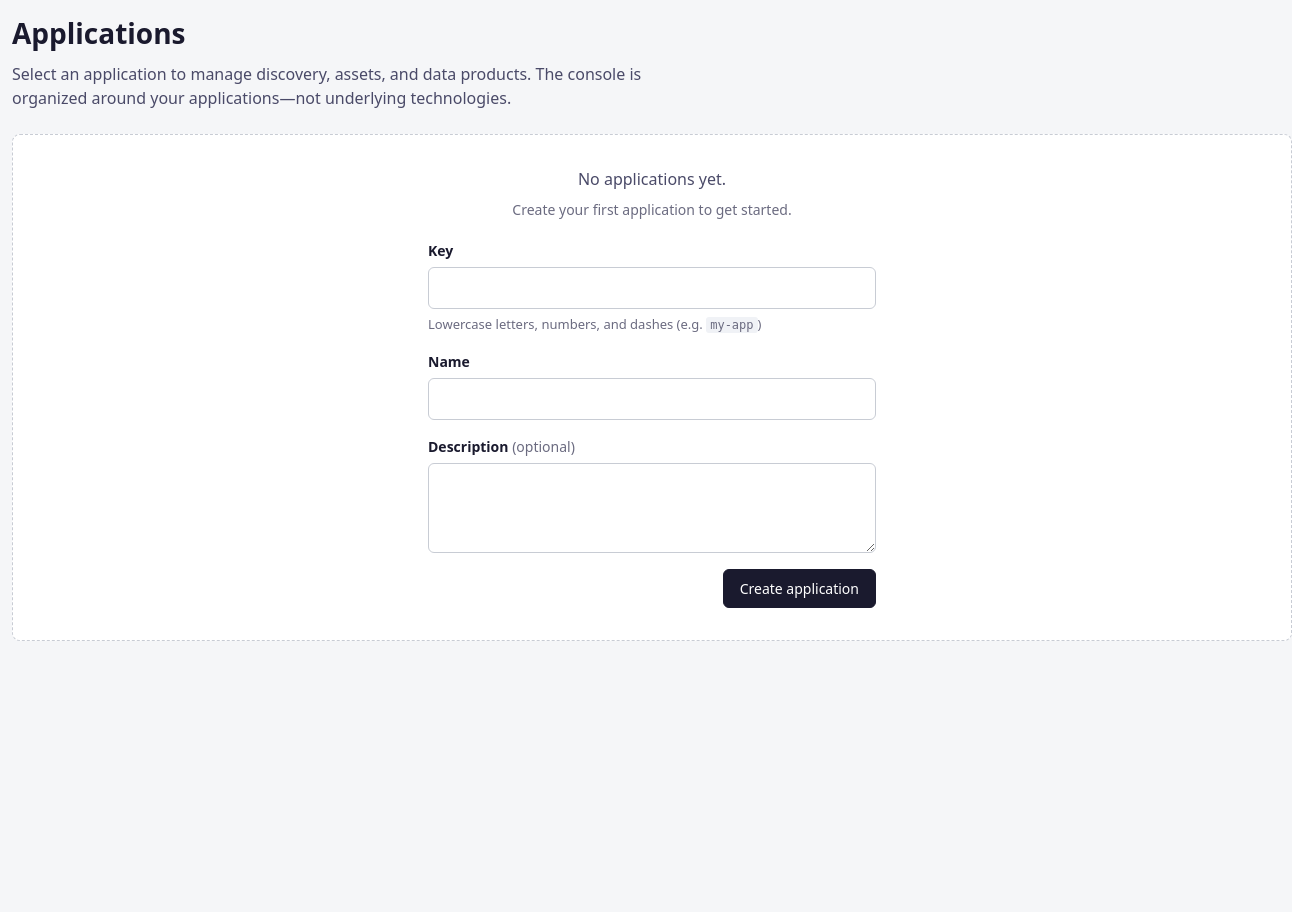
Test case: ApplicationsPage › displays API error when create fails
Expected: the text "No applications yet." is shown, [578,168,726,190]
In the field labelled "Key": point(652, 288) [428,267,876,309], type "demo"
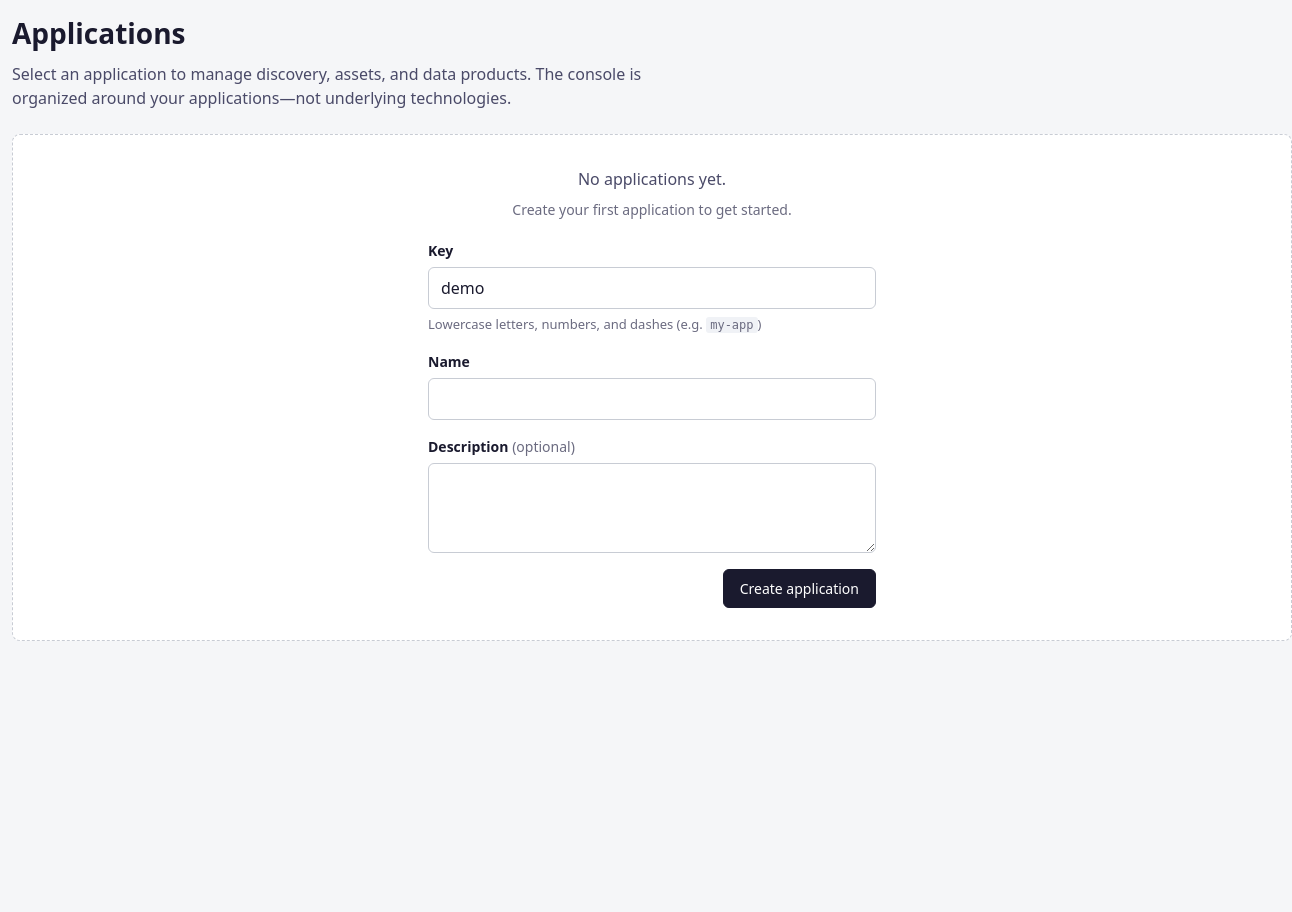
In the field labelled "Name": point(652, 398) [428,378,876,420], type "Duplicate"
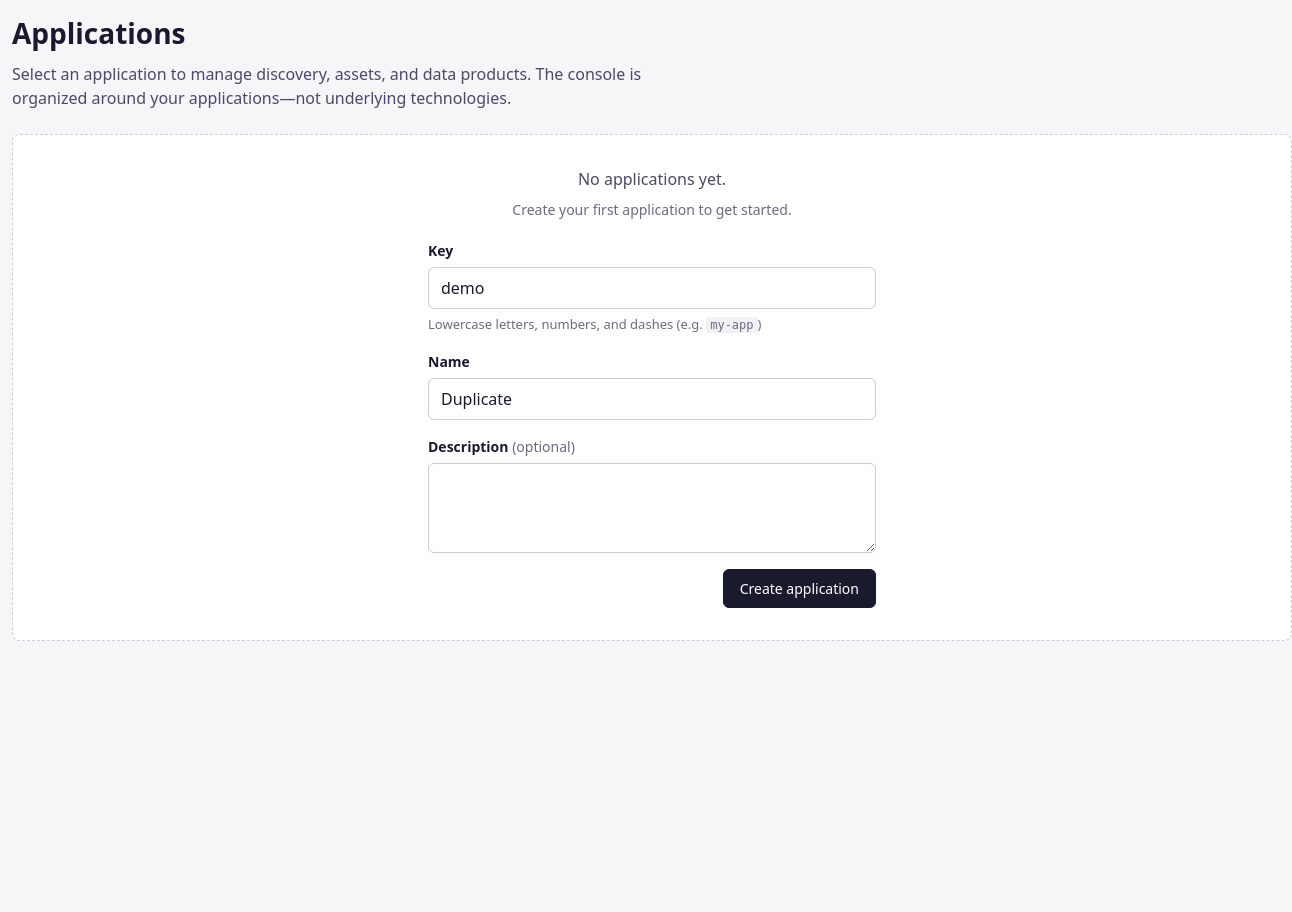
Click the button "Create application": point(799, 588) [723,568,876,608]
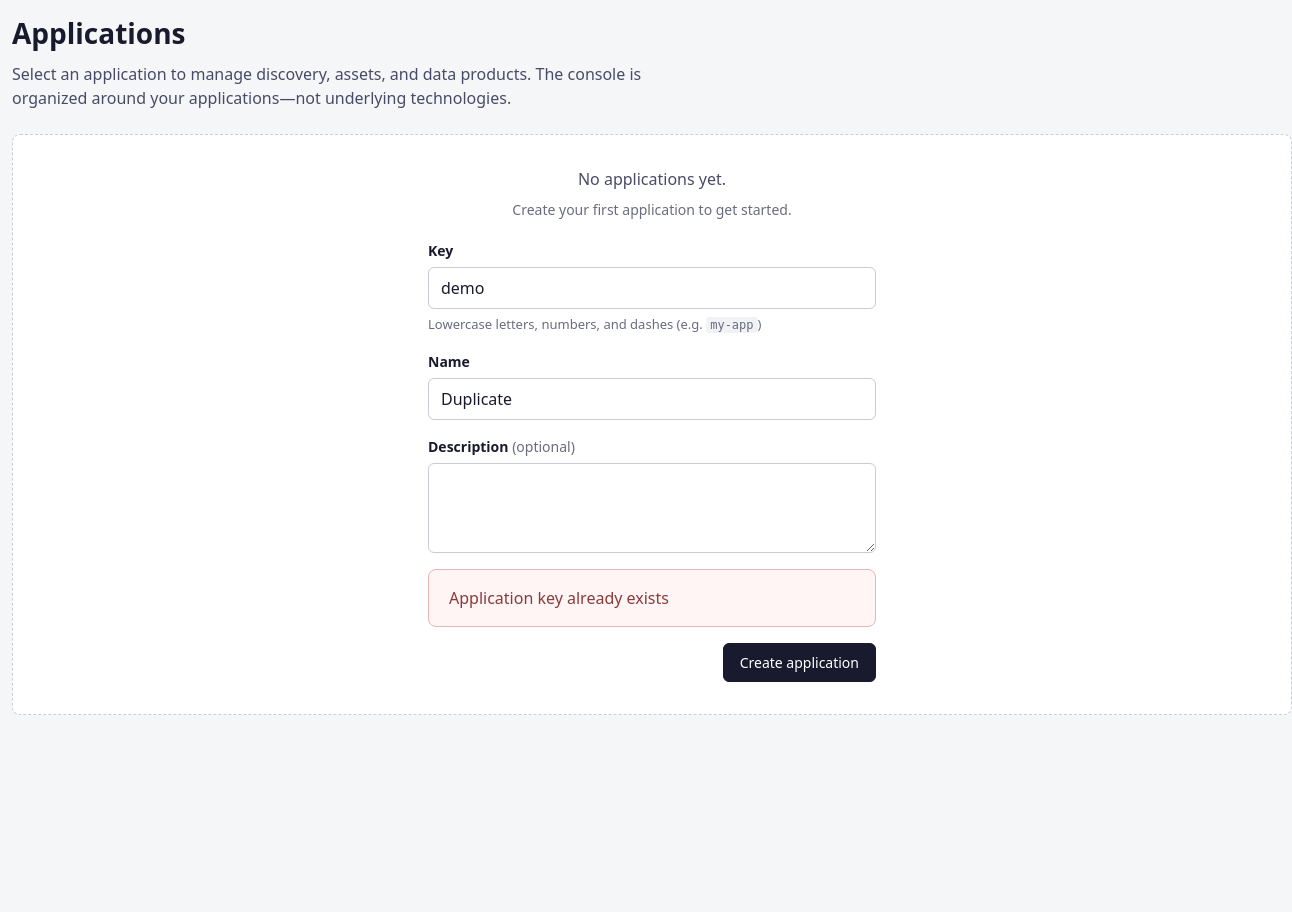
Expected: the message reads "Application key already exists", [449,586,669,608]
